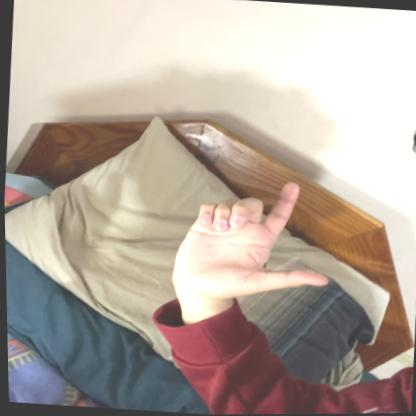L: (166, 169, 342, 313)
